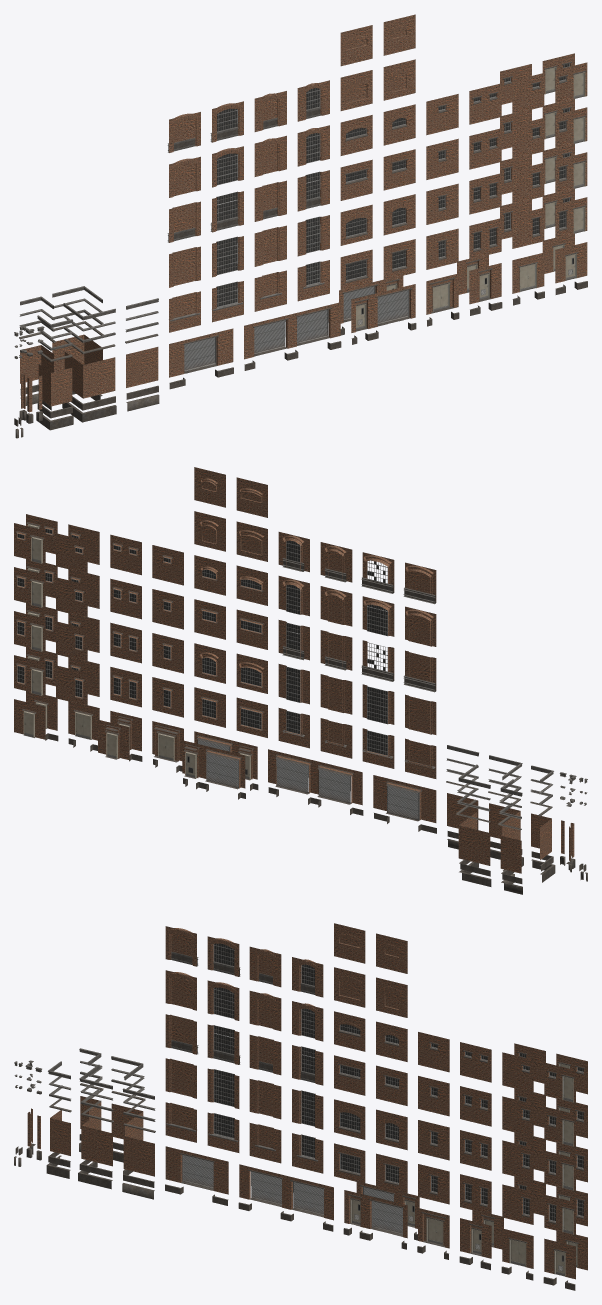
Rendered from modular_factory_facade.glb.
3 views of the same model, one above another, from view 1: azimuth 30°, elevation 25°; view 2: azimuth 150°, elevation 25°; view 3: azimuth 330°, elevation 25° (orthographic).
Visible parts, largest first — view 1: door_garage_double_01, wall_standard_corner_large_01, wall_door_garage_double_01, door_garage_door_01, wall_door_garage_centered_01, wall_window_centered_medium_05, wall_window_tall_small_09, wall_standard_standard_01, wall_window_centered_large_05, wall_window_centered_medium_06, wall_window_tall_small_07, wall_window_centered_large_06 (+57 smaller); view 2: door_garage_double_01, door_garage_door_02, wall_door_garage_double_01, wall_door_garage_centered_01, wall_standard_corner_large_02, wall_window_tall_small_09, wall_window_tall_small_07, wall_window_tall_small_06, wall_window_tall_large_09, wall_window_tall_large_07, wall_window_centered_medium_06, wall_window_centered_medium_05 (+62 smaller); view 3: door_garage_double_01, wall_door_garage_double_01, door_garage_door_01, wall_door_garage_centered_01, wall_standard_corner_large_01, wall_window_tall_small_07, wall_window_tall_small_09, wall_window_tall_small_06, wall_window_tall_large_09, wall_window_centered_large_05, wall_window_tall_large_07, wall_window_centered_medium_05 (+67 smaller).
Part boxes in pixels (x1,y1,x2,y2): door_garage_double_01: (253, 307, 331, 356); wall_standard_corner_large_01: (64, 352, 115, 398); wall_door_garage_double_01: (244, 302, 340, 359); door_garage_door_01: (355, 288, 412, 331); wall_door_garage_centered_01: (169, 328, 233, 377); wall_window_centered_medium_05: (383, 59, 415, 100); wall_window_tall_small_09: (254, 135, 286, 176); wall_standard_standard_01: (126, 347, 158, 387); wall_window_centered_large_05: (340, 70, 372, 110); wall_window_centered_medium_06: (383, 14, 415, 55); wall_window_tall_small_07: (254, 225, 286, 266); wall_window_centered_large_06: (340, 25, 372, 66); door_garage_double_01: (275, 754, 353, 804); door_garage_door_02: (184, 744, 241, 789); wall_door_garage_double_01: (268, 749, 362, 805); wall_door_garage_centered_01: (373, 775, 436, 822); wall_standard_corner_large_02: (458, 812, 490, 865); wall_window_tall_small_09: (320, 586, 352, 626); wall_window_tall_small_07: (320, 674, 352, 714); wall_window_tall_small_06: (320, 718, 352, 758); wall_window_tall_large_09: (405, 606, 436, 646); wall_window_tall_large_07: (405, 694, 436, 734); wall_window_centered_medium_06: (194, 467, 225, 507); wall_window_centered_medium_05: (194, 511, 225, 551); door_garage_double_01: (248, 1169, 324, 1217); wall_door_garage_double_01: (239, 1164, 333, 1220); door_garage_door_01: (348, 1194, 403, 1236); wall_door_garage_centered_01: (165, 1146, 228, 1194); wall_standard_corner_large_01: (81, 1112, 112, 1166); wall_window_tall_small_07: (249, 1079, 281, 1119); wall_window_tall_small_09: (249, 991, 281, 1031); wall_window_tall_small_06: (249, 1123, 281, 1163); wall_window_tall_large_09: (165, 970, 196, 1010); wall_window_centered_large_05: (334, 967, 365, 1007); wall_window_tall_large_07: (165, 1058, 196, 1098); wall_window_centered_medium_05: (376, 977, 407, 1017).
Size of the model in its own units: 53.33 by 29 by 5.36.
Materials: 6 (6 with a texture image).
